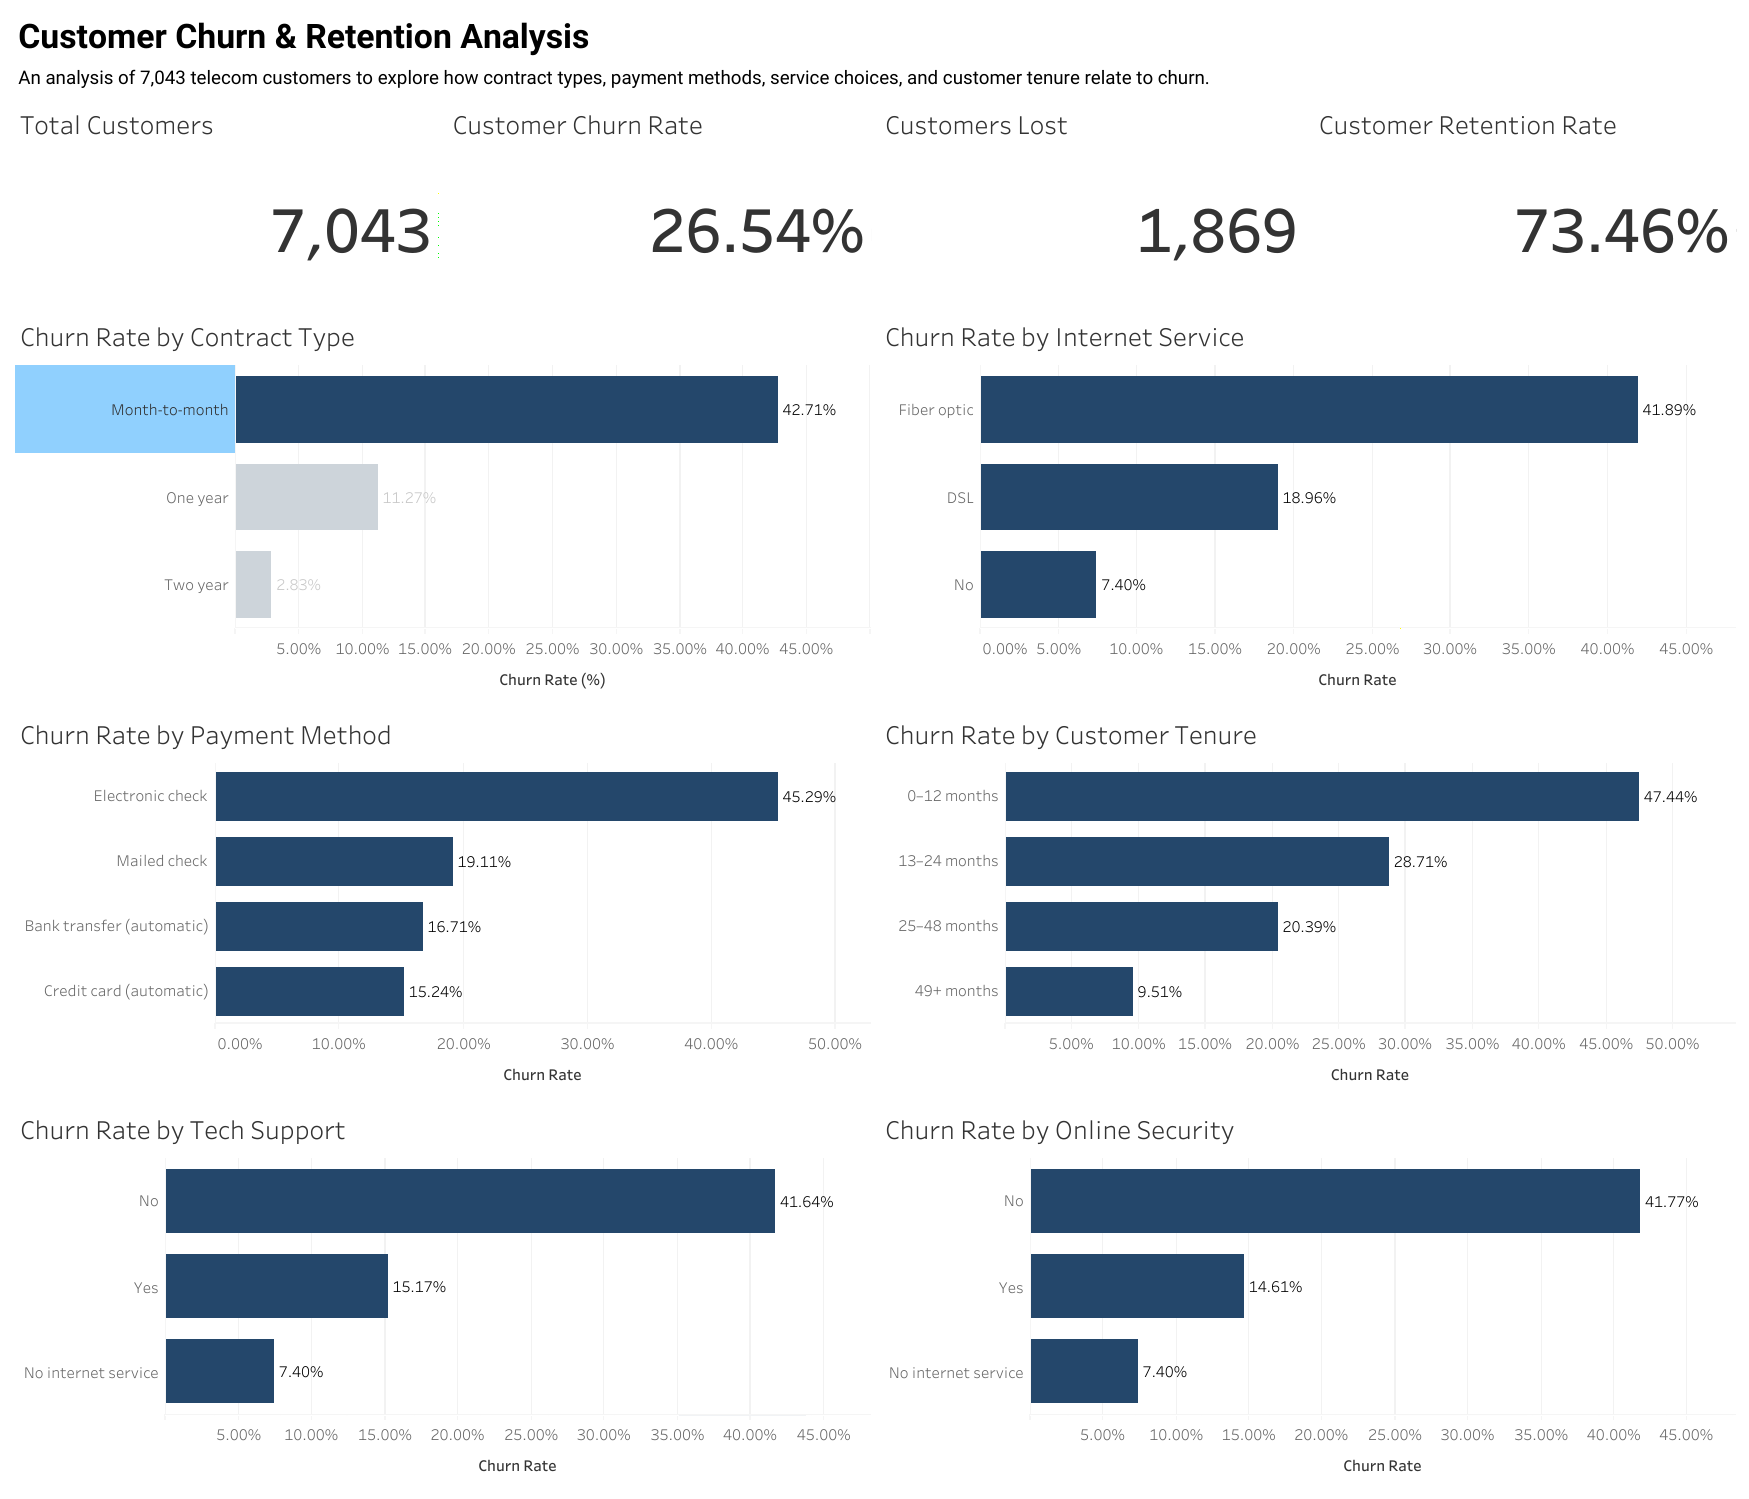

This screenshot's page, from the dashboard's own definition file:
{"tool":"tableau","page":{"name":"Customer Churn & Retention Dashboard","canvas":[1400,1200],"ordinal":0},"visuals":[{"type":"title","box":[8,8,1384,52]},{"type":"text","box":[8,60,1384,32]},{"type":"worksheet","title":"Total Customers","mark":"Automatic","box":[8,92,346,167.2]},{"type":"worksheet","title":"Customer Churn Rate","mark":"Automatic","box":[354,92,346,167.2]},{"type":"worksheet","title":"Customers Lost","mark":"Automatic","box":[700,92,346.7,167.2]},{"type":"worksheet","title":"Customer Retention Rate","mark":"Automatic","box":[1046.7,92,345.4,167.2]},{"type":"worksheet","title":"Churn Rate by Contract Type","mark":"Bar","rows":["Contract"],"cols":["Calculation_1635865610153984"],"box":[8,259.2,692,313.1]},{"type":"worksheet","title":"Churn Rate by Internet Service","mark":"Bar","rows":["InternetService"],"cols":["Calculation_1635865610153984"],"box":[700,259.2,692,313.1]},{"type":"worksheet","title":"Churn Rate by Payment Method","mark":"Bar","rows":["PaymentMethod"],"cols":["Calculation_1635865610153984"],"box":[8,572.3,692,311.2]},{"type":"worksheet","title":"Churn Rate by Customer Tenure","mark":"Automatic","rows":["Calculation_1635865616560131"],"cols":["Calculation_1635865610153984"],"box":[700,572.3,692,311.2]},{"type":"worksheet","title":"Churn Rate by Tech Support","mark":"Automatic","rows":["TechSupport"],"cols":["Calculation_1635865610153984"],"box":[8,883.5,692,308.5]},{"type":"worksheet","title":"Churn Rate by Online Security","mark":"Bar","rows":["OnlineSecurity"],"cols":["Calculation_1635865610153984"],"box":[700,883.5,692,308.5]}]}

Visuals, with their boxes in screenshot pixels (x1, y1, x2, y2), scaled from the page's 1400x1200 canvas onto the 1749x1499 screenshot:
title: crop(10, 10, 1739, 75)
text: crop(10, 75, 1739, 115)
"Total Customers" worksheet: crop(10, 115, 442, 324)
"Customer Churn Rate" worksheet: crop(442, 115, 874, 324)
"Customers Lost" worksheet: crop(874, 115, 1308, 324)
"Customer Retention Rate" worksheet: crop(1308, 115, 1739, 324)
"Churn Rate by Contract Type" worksheet (Bar marks): crop(10, 324, 874, 715)
"Churn Rate by Internet Service" worksheet (Bar marks): crop(874, 324, 1739, 715)
"Churn Rate by Payment Method" worksheet (Bar marks): crop(10, 715, 874, 1104)
"Churn Rate by Customer Tenure" worksheet: crop(874, 715, 1739, 1104)
"Churn Rate by Tech Support" worksheet: crop(10, 1104, 874, 1489)
"Churn Rate by Online Security" worksheet (Bar marks): crop(874, 1104, 1739, 1489)
